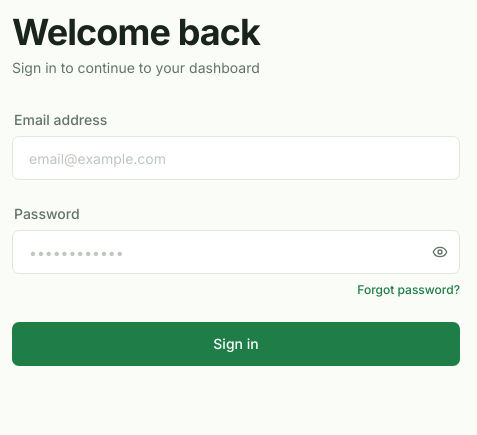
LoginPage › shows validation messages for an empty submission
What coordinates should you click on to do the following:
click the button with test id "login-submit-button"
I would click on:
 (236, 344)
Its box is x1=12 y1=322 x2=460 y2=366.
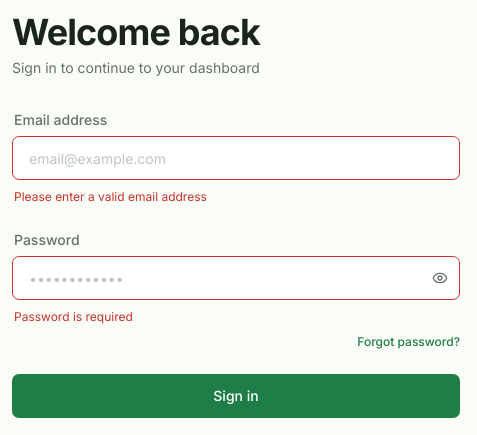
Expected: the text "Please enter a valid email address" is shown, x1=14 y1=189 x2=207 y2=204
Expected: the text "Password is required" is shown, x1=14 y1=309 x2=133 y2=324
